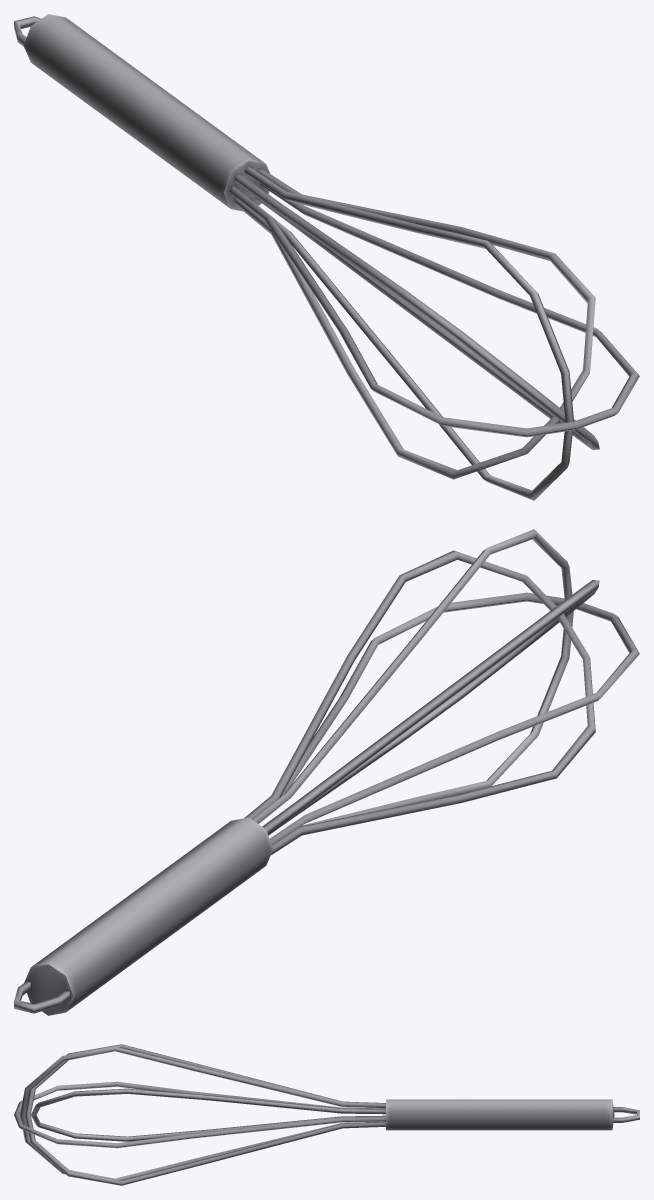
The model's file is jsf_Whisk.fbx.
3 renders of one model, top to bottom at view 1: azimuth 30°, elevation 25°; view 2: azimuth 150°, elevation 25°; view 3: azimuth 270°, elevation 25°, orthographic. The views are drawn at different scales.
Visible parts, largest first — view 1: jsf_Whisk; view 2: jsf_Whisk; view 3: jsf_Whisk.
Boxes of the visible parts, x1,y1,x2,y2 form: jsf_Whisk: [14, 14, 639, 500]; jsf_Whisk: [14, 529, 639, 1015]; jsf_Whisk: [14, 1044, 639, 1185].
Size of the model in its own units: 7.68 by 7.68 by 31.89.
